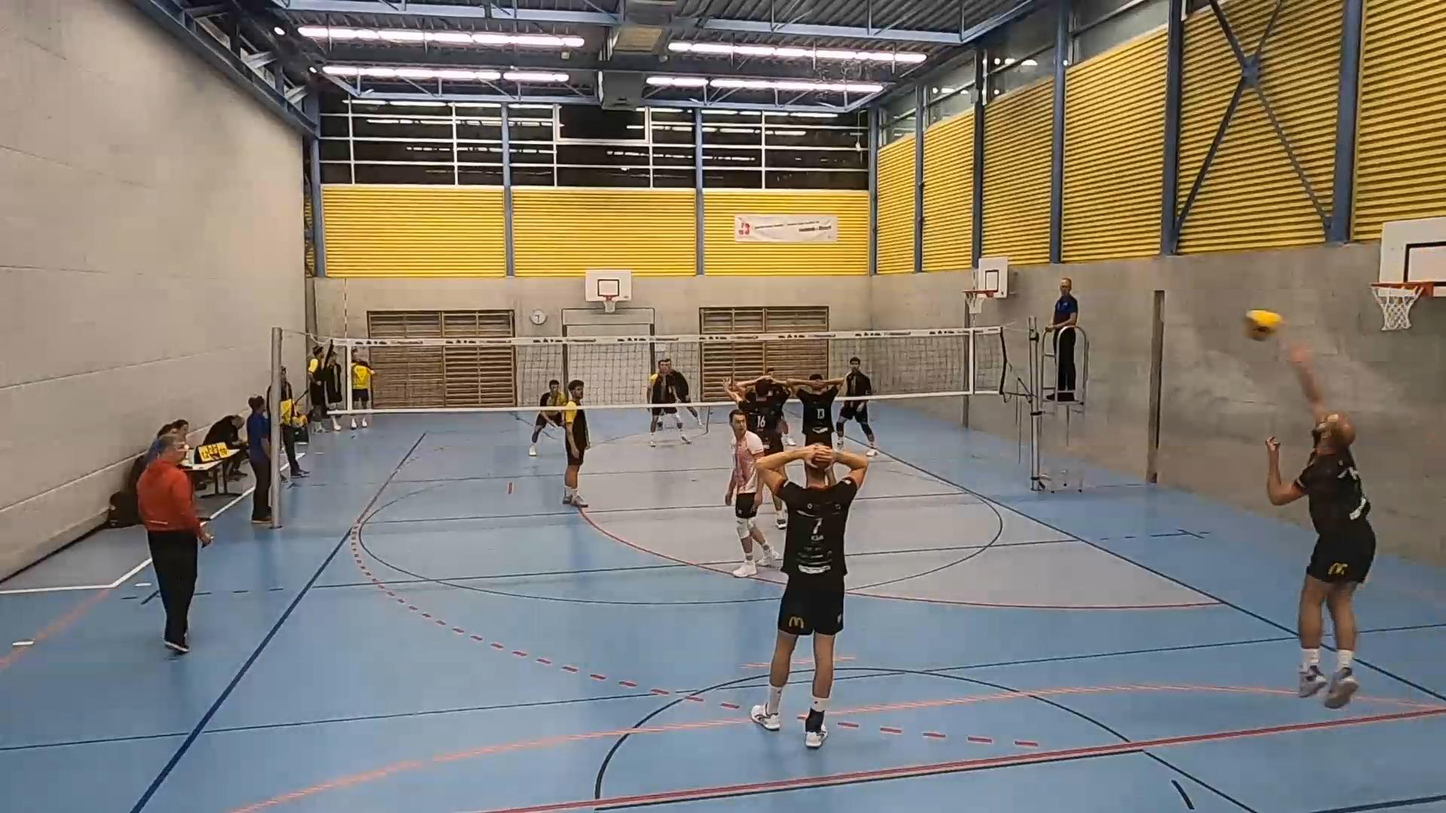battuta: (1265, 344, 1382, 708)
